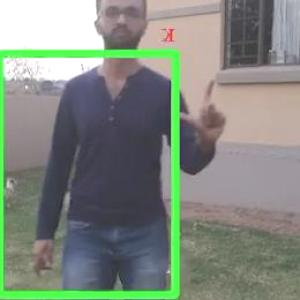land_hand: (173, 72, 235, 140)
